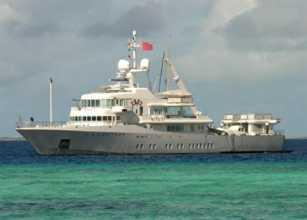warship: (14, 32, 283, 158)
